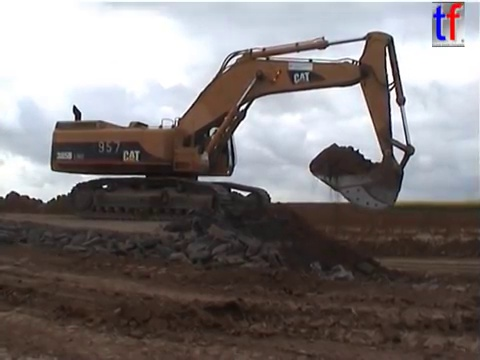excavator: (47, 27, 418, 224)
